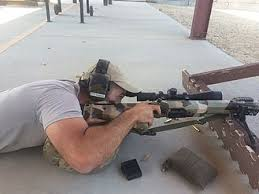Gun: (134, 85, 246, 117)
